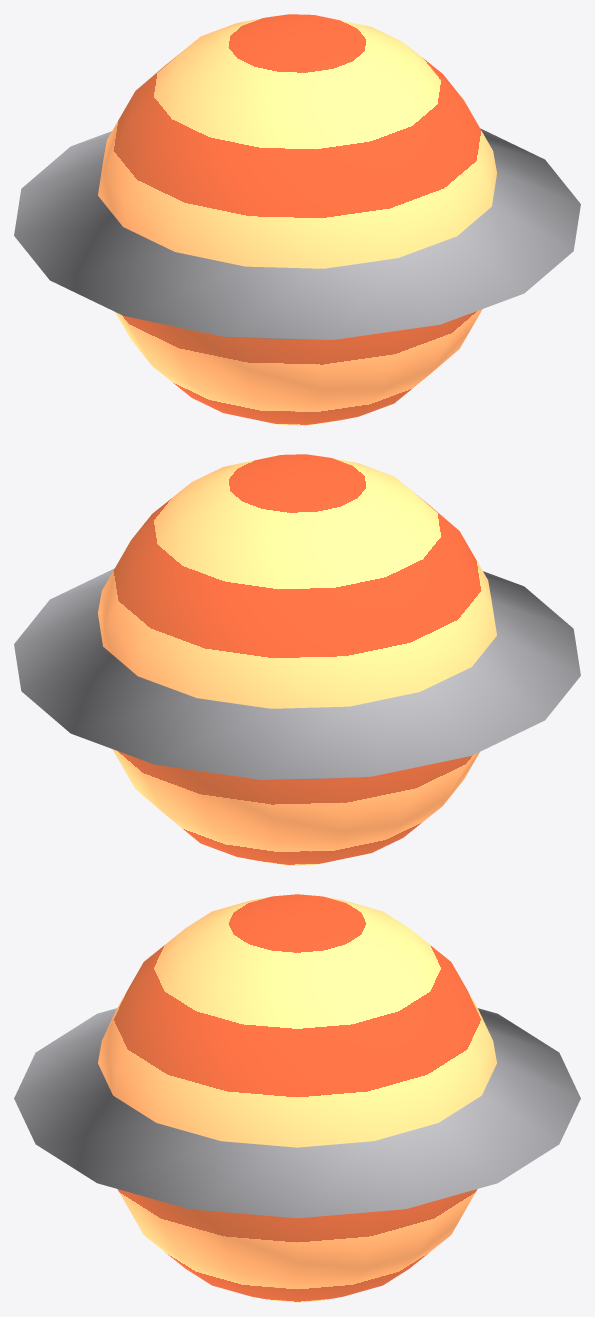
Rendered from item_bomb.glb.
3 views of the same model, one above another, from view 1: azimuth 30°, elevation 25°; view 2: azimuth 150°, elevation 25°; view 3: azimuth 270°, elevation 25° (orthographic).
Parts seen in each view (by area): view 1: item_bomb; view 2: item_bomb; view 3: item_bomb.
Boxes of the visible parts, <box> form: item_bomb: <box>14,14,580,425</box>; item_bomb: <box>14,454,580,865</box>; item_bomb: <box>14,894,580,1302</box>.
Size of the model in its own units: 1.24 by 0.9 by 1.24.
Materials: 2 (1 with a texture image).
